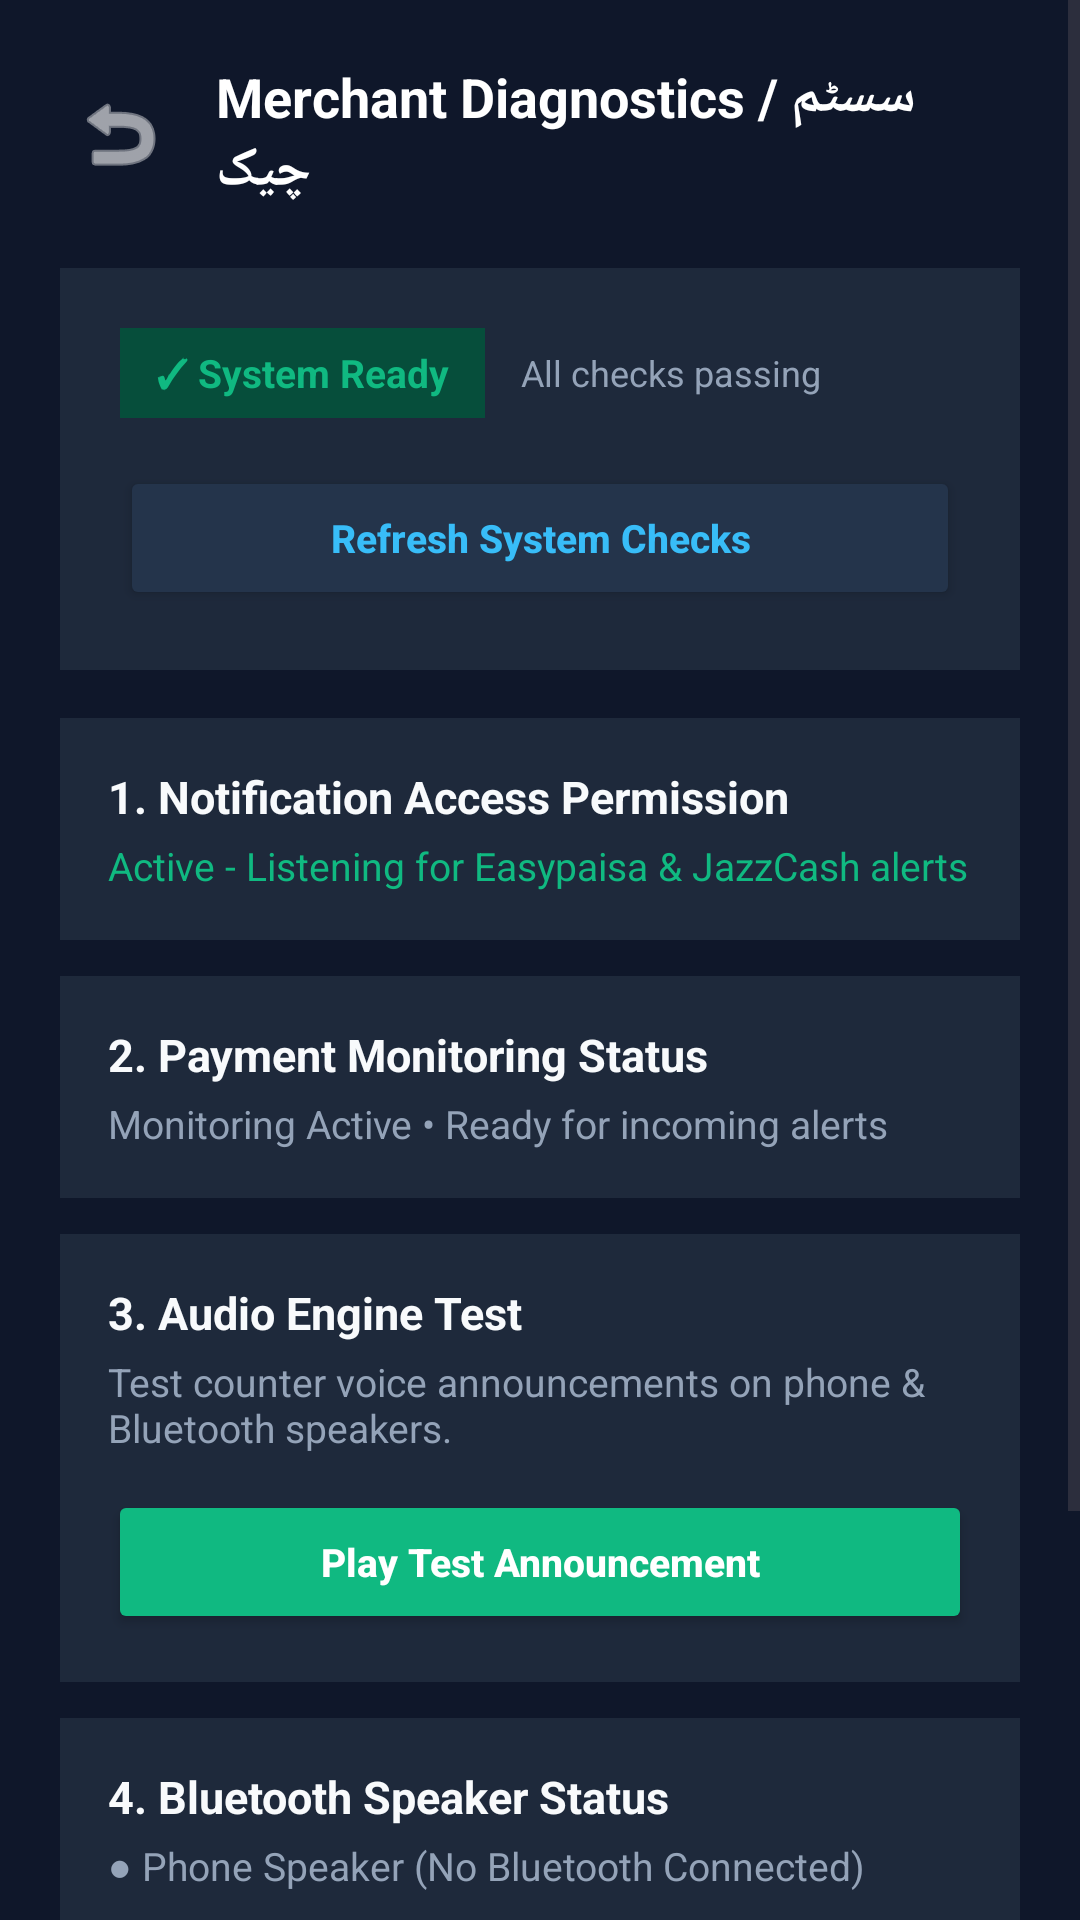

Icon bounding boxes for this 1080px x 1920px phone screenshot, format (x1=x1, y1=y1, x2=x2, y2=y2):
Back: (x1=87, y1=103, x2=156, y2=166)
